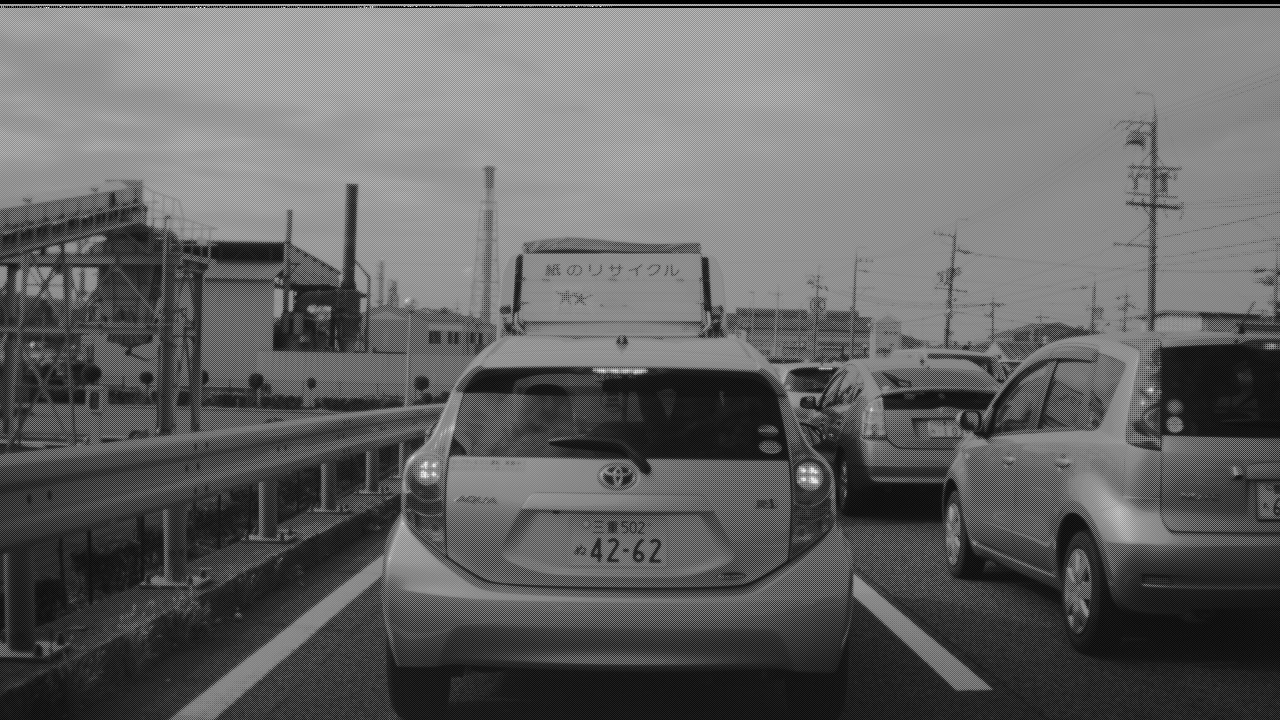pole: (1145, 109, 1162, 329), (944, 229, 958, 345)
